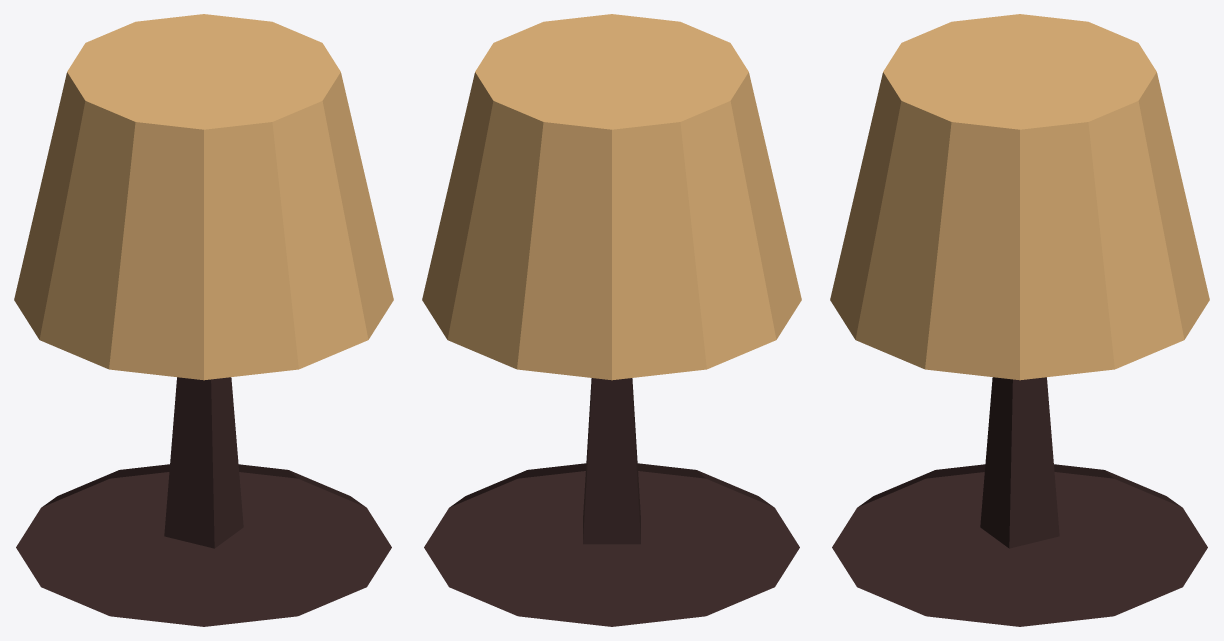
The model's file is lamp2.fbx.
3 renders of one model, left to right at view 1: azimuth 30°, elevation 25°; view 2: azimuth 150°, elevation 25°; view 3: azimuth 270°, elevation 25°, orthographic.
Visible parts, largest first — view 1: Circle.001, Circle; view 2: Circle.001, Circle; view 3: Circle.001, Circle.
Boxes of the visible parts, <box> form: Circle.001: <box>14,14,393,380</box>; Circle: <box>16,377,391,626</box>; Circle.001: <box>422,14,801,380</box>; Circle: <box>424,378,799,626</box>; Circle.001: <box>830,14,1209,380</box>; Circle: <box>832,377,1207,626</box>.
Size of the model in its own units: 202 by 279 by 202.
